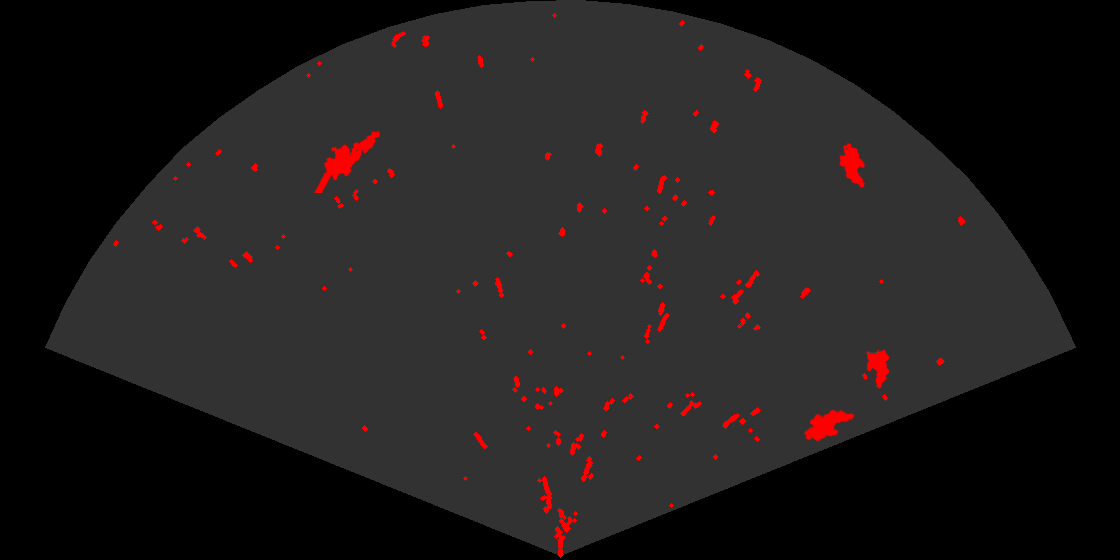AUV: (802, 408, 856, 443), (838, 142, 867, 189), (865, 348, 890, 390)
frogman: (313, 129, 382, 193)
